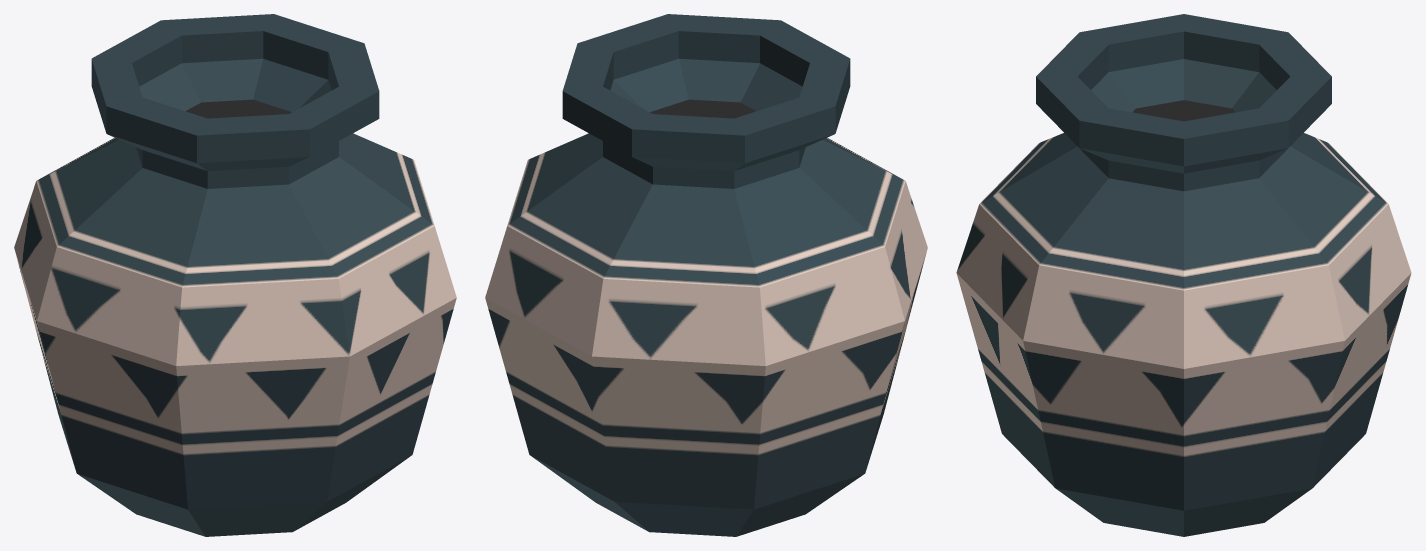
File: Vase_01.fbx
3 views of the same model, side by side, from view 1: azimuth 30°, elevation 25°; view 2: azimuth 150°, elevation 25°; view 3: azimuth 270°, elevation 25° (orthographic).
Parts seen in each view (by area): view 1: Vase_01; view 2: Vase_01; view 3: Vase_01.
Boxes of the visible parts, x1,y1,x2,y2 form: Vase_01: (14,14,456,536); Vase_01: (485,14,927,536); Vase_01: (956,14,1411,536).
Bounding box in the file's own units: 70 × 70 × 70.
1 material, 1 textured.
